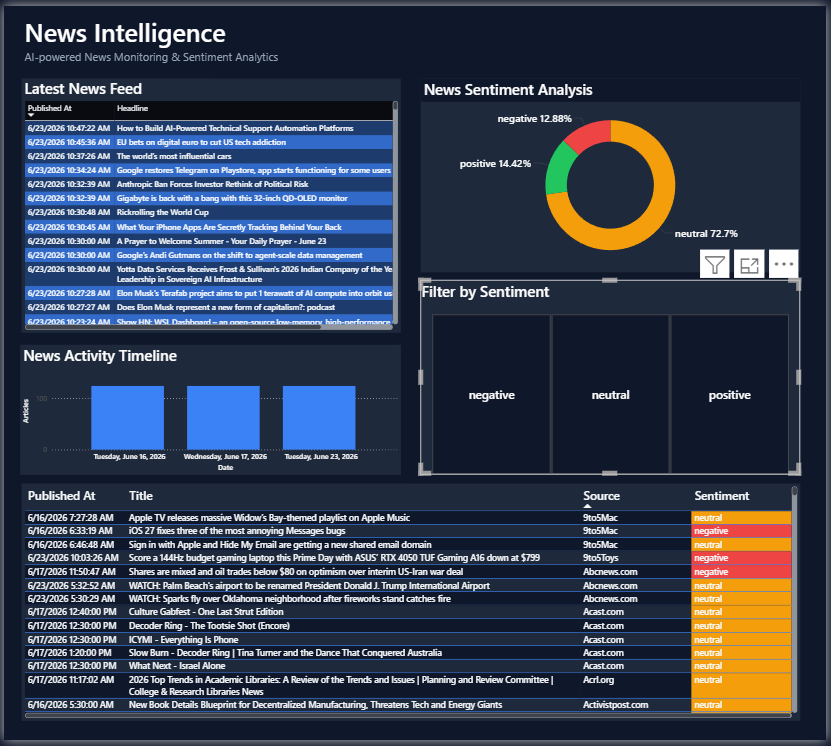

The page's visual inventory and layout, read from the dashboard file:
{"tool":"powerbi","page":{"name":"News Intelligence","canvas":[1400,1152],"ordinal":3},"visuals":[{"type":"textbox","box":[30.3,10.1,782,70.7],"z":0},{"type":"textbox","box":[29.4,67.2,585.8,35.7],"z":1000},{"type":"tableEx","title":"Latest News Feed","fields":{"Values":["news.published_at","news.title"]},"box":[30.4,123.9,645.7,432.6],"z":2000},{"type":"donutChart","title":"News Sentiment Analysis","fields":{"Category":["sentiment.sentiment_label"],"Y":["CountNonNull(sentiment.id)"]},"box":[708.3,123.9,647.9,330.3],"z":3000},{"type":"clusteredColumnChart","title":"News Activity Timeline","fields":{"Category":["news.News Date"],"Y":["CountNonNull(prices.id)"]},"box":[28.3,576.1,647.8,221.7],"z":4000},{"type":"tableEx","fields":{"Values":["news.published_at","news.title","news.source","sentiment.sentiment_label"]},"box":[28.9,812.2,1326.2,324.9],"z":5000},{"type":"slicer","title":"Filter by Sentiment","fields":{"Values":["sentiment.sentiment_label"]},"box":[708,466,648,332],"z":6000}]}

Visuals, with their boxes on the page's 1400x1152 design canvas (x1, y1, x2, y2). These are canvas units, not pixel positions in the 831x746 screenshot, which may show the page scaled, cropped or inside an application window:
textbox: 30,10,812,81
textbox: 29,67,615,103
"Latest News Feed" tableEx: 30,124,676,556
"News Sentiment Analysis" donutChart: 708,124,1356,454
"News Activity Timeline" clusteredColumnChart: 28,576,676,798
tableEx - news.published_at x news.title: 29,812,1355,1137
"Filter by Sentiment" slicer: 708,466,1356,798
